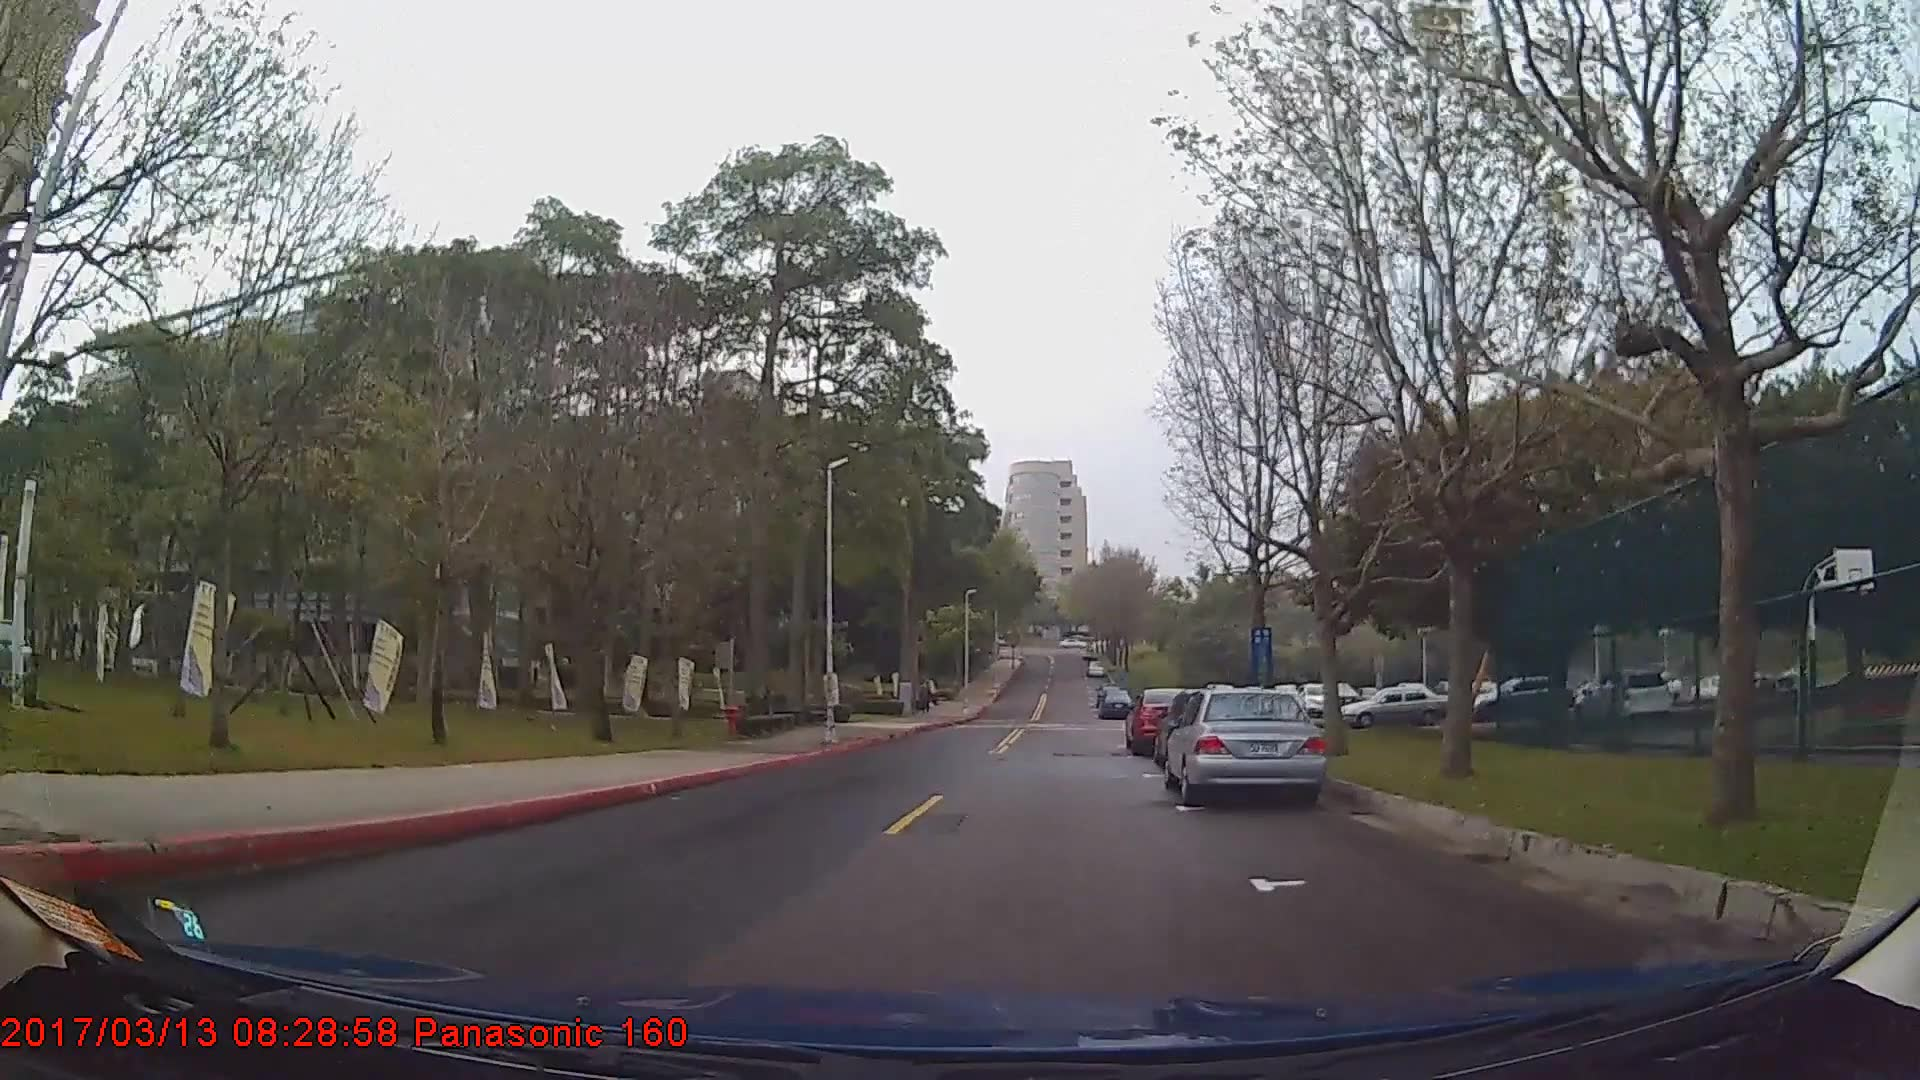vehicle: (1163, 684, 1325, 804), (1568, 666, 1668, 727), (1124, 683, 1207, 756), (1344, 680, 1453, 731), (1098, 687, 1133, 720)
